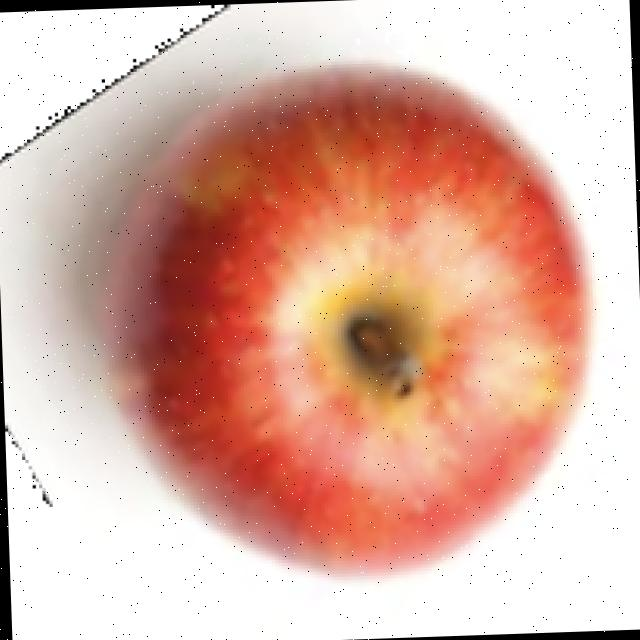apple: (0, 6, 602, 588)
